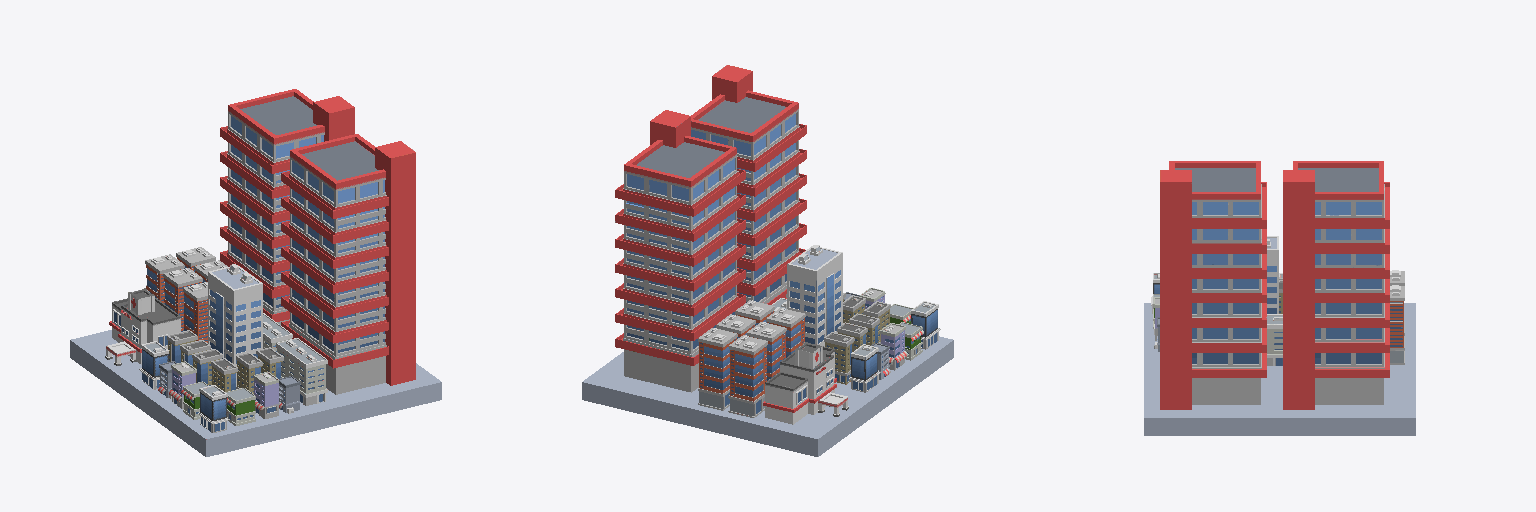
3 views of the same model, side by side, from view 1: azimuth 30°, elevation 25°; view 2: azimuth 150°, elevation 25°; view 3: azimuth 270°, elevation 25° (orthographic).
Parts seen in each view (by area): view 1: Object130; view 2: Object130; view 3: Object130.
Part boxes in pixels (x1,y1,x2,y2): Object130: (70, 89, 441, 456); Object130: (582, 65, 953, 456); Object130: (1144, 161, 1415, 435).
Size of the model in its own units: 2252 by 2243 by 2252.
1 materials, 1 textured.